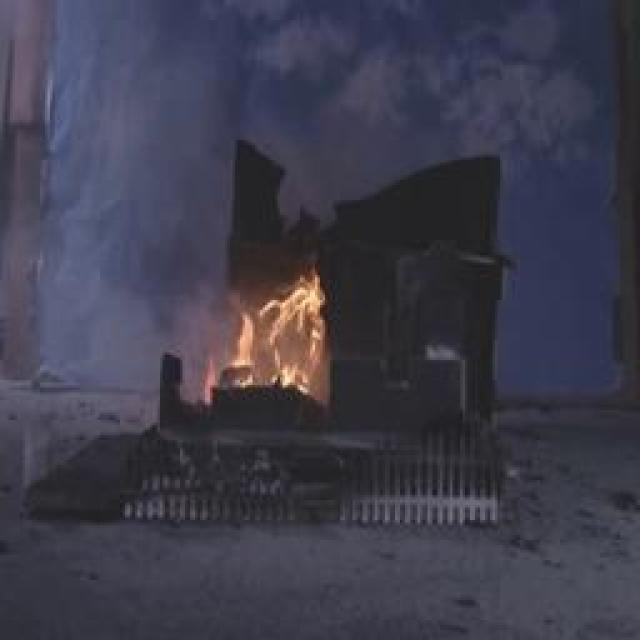fire: (196, 245, 366, 413)
smoke: (16, 4, 626, 231)
